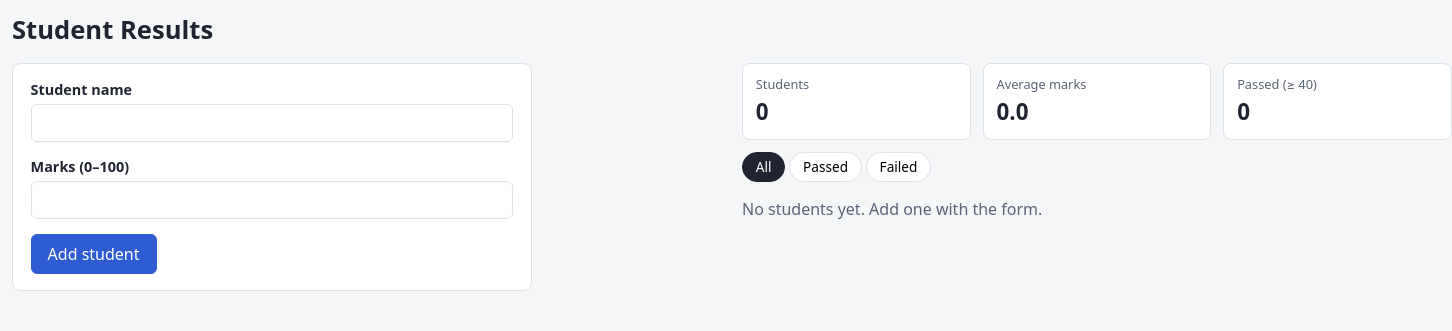
Test: Student results (lifted state) › rejects invalid marks without adding anything
In the field labelled "Student name": (272, 123) [31,104,513,142], type "Asha"
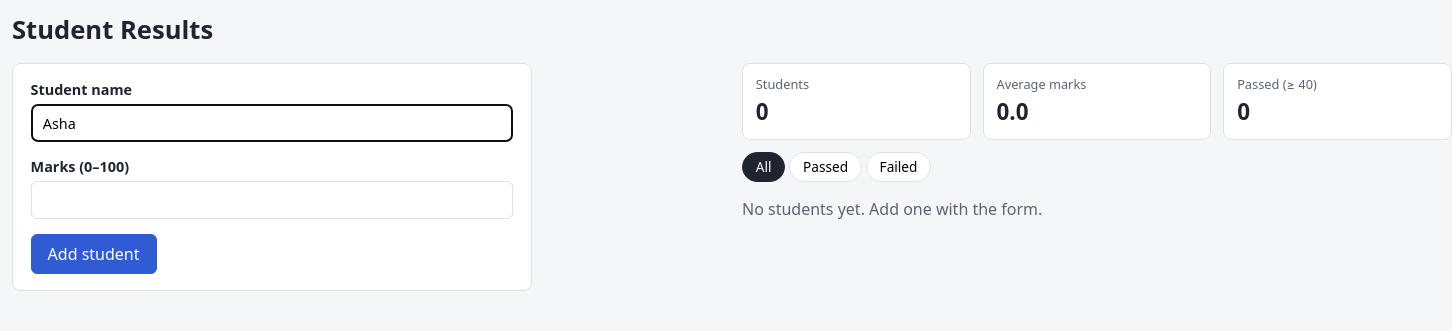
In the number field labelled "Marks (0–100)": (272, 200) [31,181,513,219], type "120"
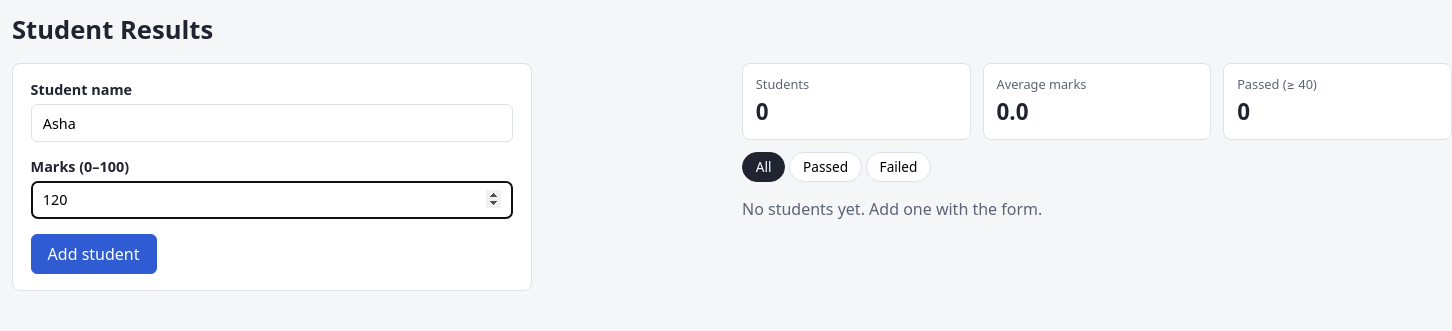
Click the button "Add student": (94, 254) [31,234,156,274]
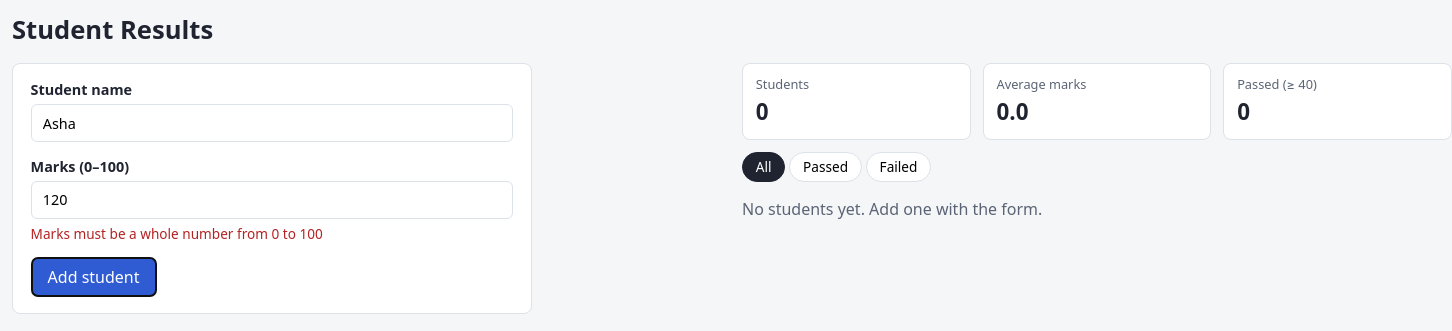
Expected: the text "Marks must be a whole number from 0 to 100" is shown, [31,224,323,243]
